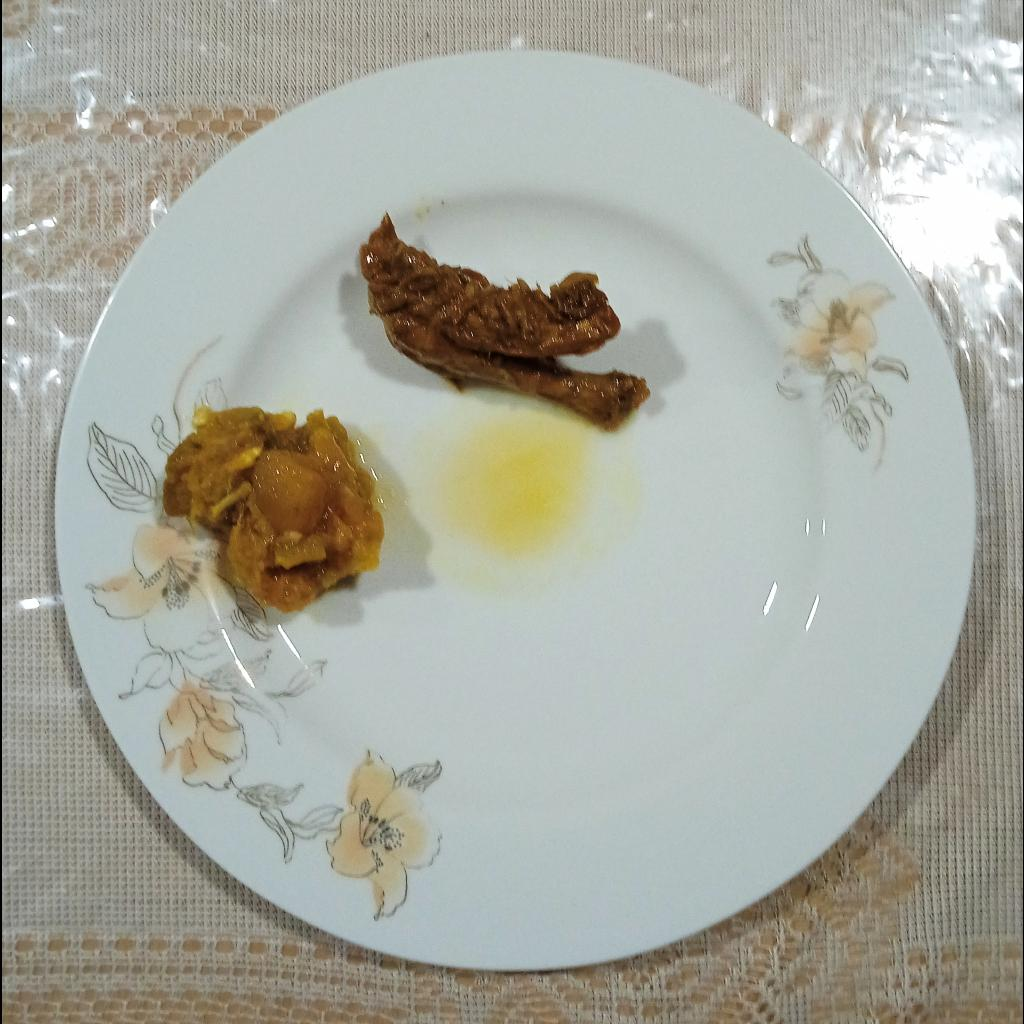chicken: (354, 213, 651, 429)
kumra-vaji: (161, 407, 384, 611)
